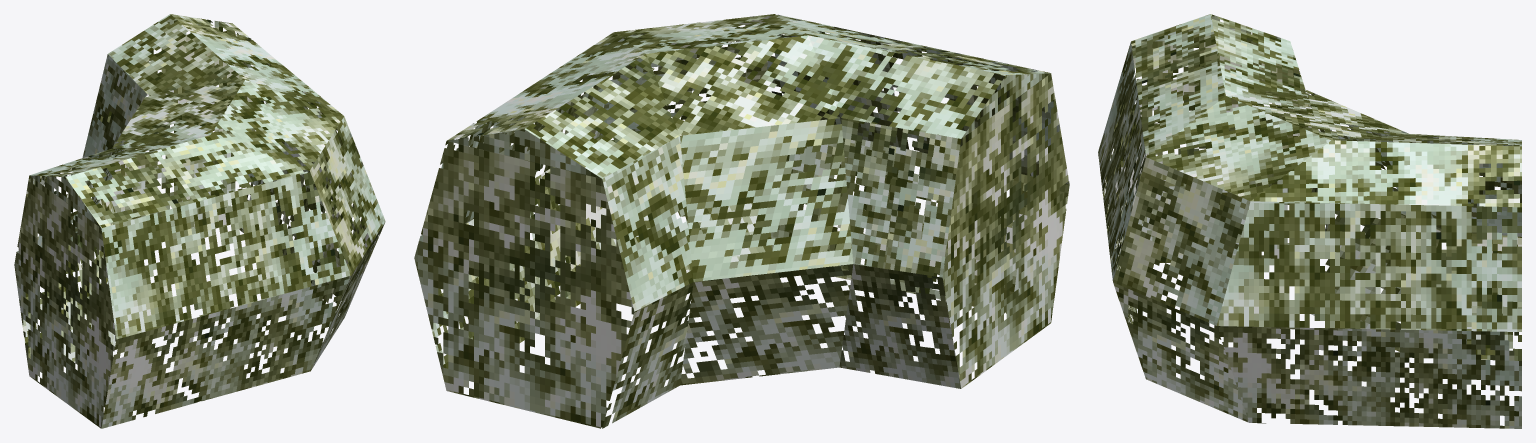
File: bush_round_corner_winter.glb
3 views of the same model, side by side, from view 1: azimuth 30°, elevation 25°; view 2: azimuth 150°, elevation 25°; view 3: azimuth 270°, elevation 25° (orthographic). The views are drawn at different scales.
Parts seen in each view (by area): view 1: bush_round_corner_winter; view 2: bush_round_corner_winter; view 3: bush_round_corner_winter.
Boxes of the visible parts, <box> form: bush_round_corner_winter: <box>14,14,385,428</box>; bush_round_corner_winter: <box>414,14,1069,428</box>; bush_round_corner_winter: <box>1098,14,1521,428</box>.
Size of the model in its own units: 1.36 by 0.8765 by 1.35.
1 material, 1 textured.
